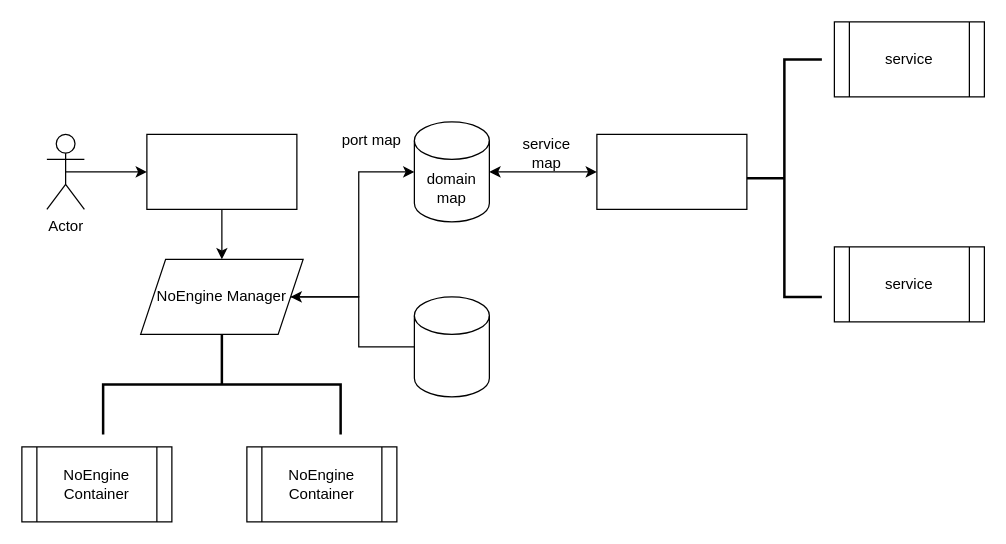
The diagram is 1006 pixels wide and 544 high, and some of its shapes have lost their labels. The centre of each missing label's shape, as x and y in pixels:
create containers: [221,383]
NoEngine(openresty): [221,171]
Sandwich: [671,171]
template: [451,346]
